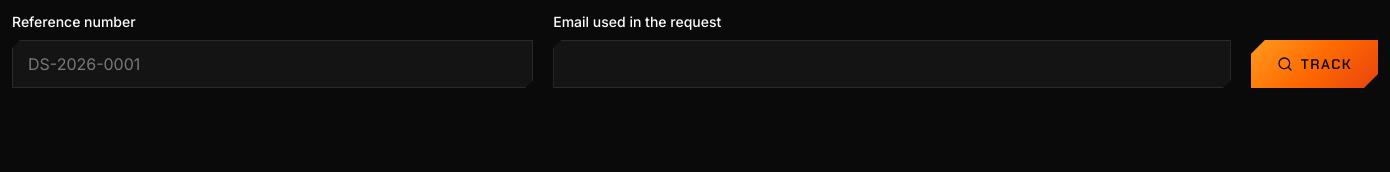
Test: TrackForm › validates the reference format
Type "ABC" into the field labelled "Reference number" at [273, 64], box [12,40,533,88]
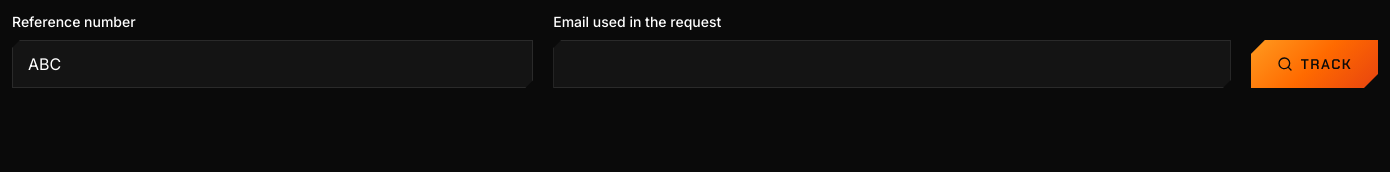
Type "a@b.co" into the field labelled "Email used in the request" at [892, 64], box [553,40,1231,88]
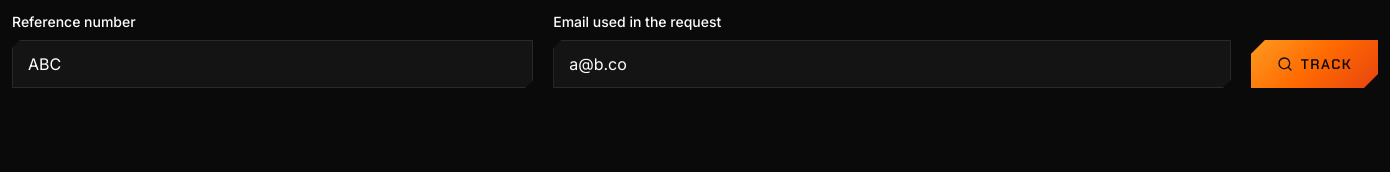
Click the button "Track" at [1314, 64], box [1251,40,1378,88]
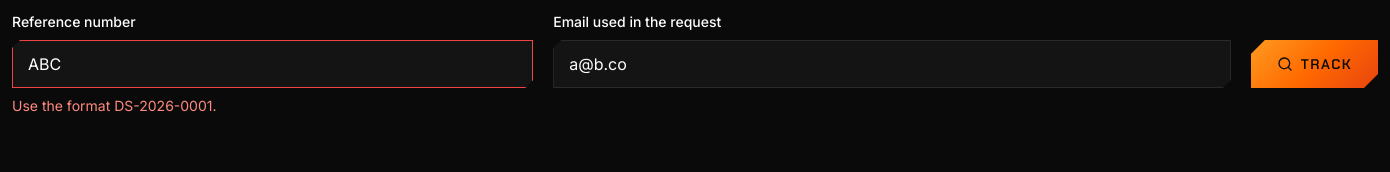
expect the text "Use the format DS-2026-0001." is shown: met, box [12,97,216,114]
